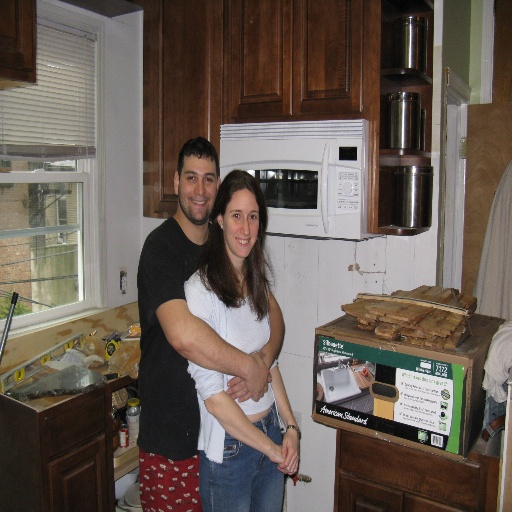hand: (246, 350, 272, 402), (277, 432, 299, 476), (225, 375, 252, 404), (272, 442, 286, 464)
